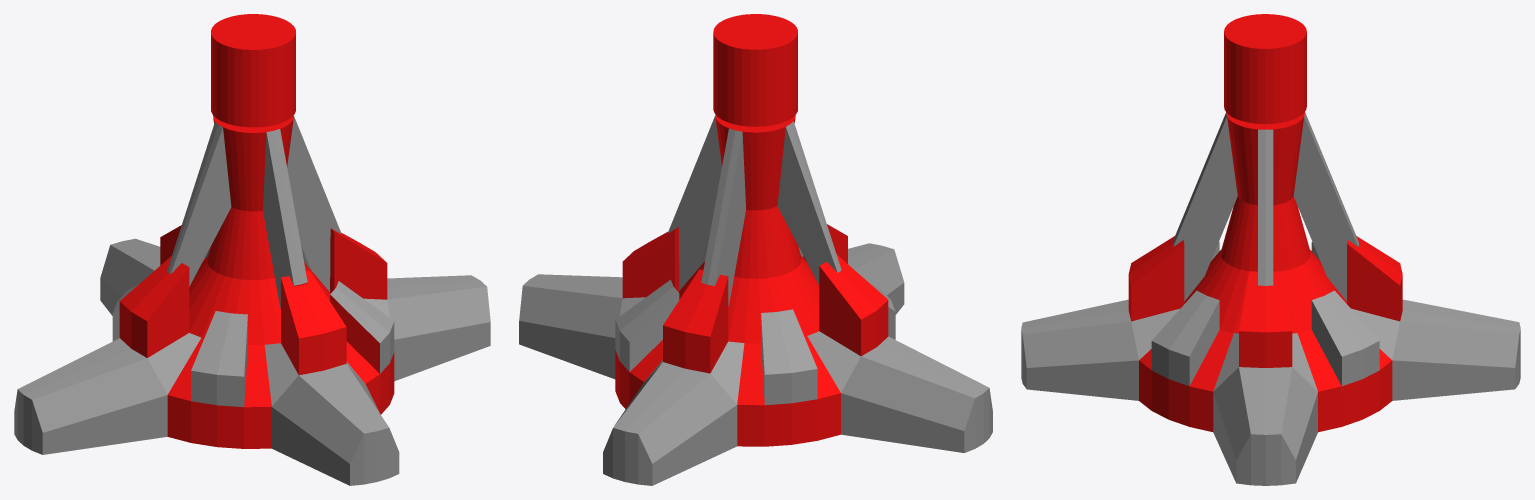
File: turret_body.obj
3 renders of one model, left to right at view 1: azimuth 30°, elevation 25°; view 2: azimuth 150°, elevation 25°; view 3: azimuth 270°, elevation 25°, orthographic. The views are drawn at different scales.
Parts seen in each view (by area): view 1: Cylinder; view 2: Cylinder; view 3: Cylinder.
Part boxes in pixels (x1,y1,x2,y2): Cylinder: (14,14,490,485); Cylinder: (519,14,992,485); Cylinder: (1021,14,1520,485).
Bounding box in the file's own units: 3.93 × 2.94 × 3.83.
